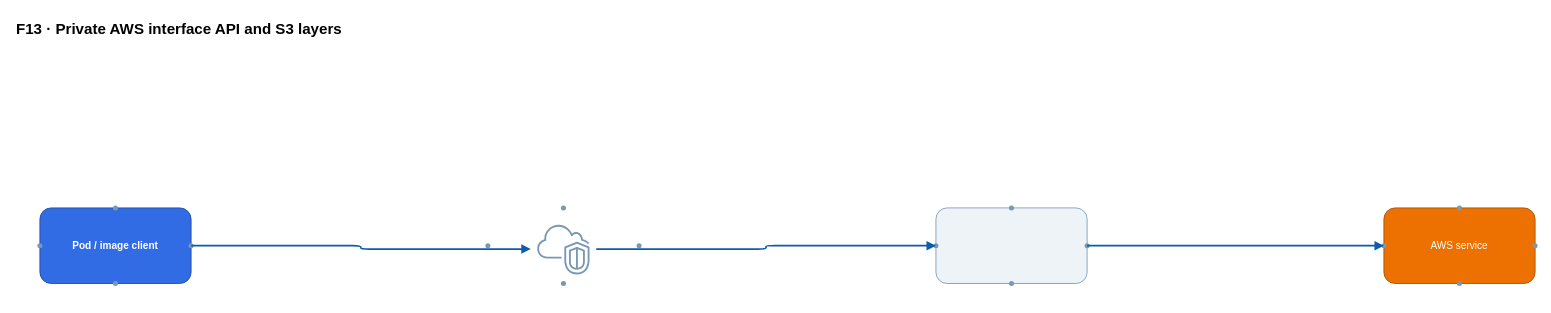
This 1551x313 diagram has some shape labels left out. Each missing label, with the box of its shape:
AWS endpoint ENI: (935, 207, 1087, 284)
Private subnet routing: (530, 215, 596, 282)
